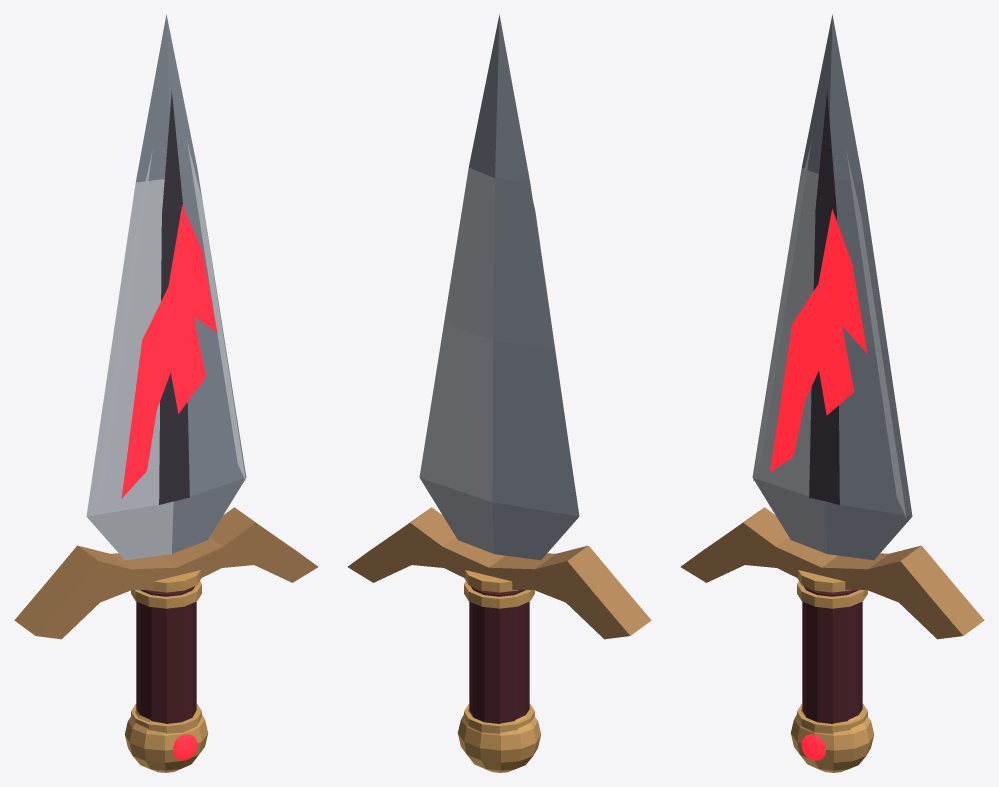
File: assassin-flame-dagger.glb
3 renders of one model, left to right at view 1: azimuth 30°, elevation 25°; view 2: azimuth 150°, elevation 25°; view 3: azimuth 330°, elevation 25°, orthographic.
Parts seen in each view (by area): view 1: Flame Dagger • Curved Moonsteel Blade, Flame Dagger • Swept Bronze Guard, Flame Dagger • Ember Inlay, Flame Dagger • Leather Grip, Flame Dagger • Obsidian Fuller, Flame Dagger • Pommel, Flame Dagger • Edge Glint L, Flame Dagger • Edge Glint R, Flame Dagger • Grip Ferrule.001, Flame Dagger • Grip Ferrule, Flame Dagger • Grip Ferrule.002; view 2: Flame Dagger • Curved Moonsteel Blade, Flame Dagger • Swept Bronze Guard, Flame Dagger • Leather Grip, Flame Dagger • Pommel, Flame Dagger • Grip Ferrule.001, Flame Dagger • Grip Ferrule, Flame Dagger • Grip Ferrule.002; view 3: Flame Dagger • Curved Moonsteel Blade, Flame Dagger • Swept Bronze Guard, Flame Dagger • Ember Inlay, Flame Dagger • Leather Grip, Flame Dagger • Obsidian Fuller, Flame Dagger • Pommel, Flame Dagger • Edge Glint R, Flame Dagger • Edge Glint L, Flame Dagger • Grip Ferrule.001, Flame Dagger • Grip Ferrule, Flame Dagger • Grip Ferrule.002.
Part boxes in pixels (bbox=[...]): Flame Dagger • Curved Moonsteel Blade: bbox=[86, 14, 246, 560]; Flame Dagger • Swept Bronze Guard: bbox=[14, 507, 318, 639]; Flame Dagger • Ember Inlay: bbox=[121, 205, 217, 498]; Flame Dagger • Leather Grip: bbox=[136, 586, 196, 723]; Flame Dagger • Obsidian Fuller: bbox=[159, 90, 189, 504]; Flame Dagger • Pommel: bbox=[124, 709, 208, 772]; Flame Dagger • Edge Glint L: bbox=[92, 149, 152, 518]; Flame Dagger • Edge Glint R: bbox=[187, 140, 245, 480]; Flame Dagger • Grip Ferrule.001: bbox=[131, 581, 201, 608]; Flame Dagger • Grip Ferrule: bbox=[131, 704, 201, 733]; Flame Dagger • Grip Ferrule.002: bbox=[148, 570, 201, 592]; Flame Dagger • Curved Moonsteel Blade: bbox=[419, 14, 579, 560]; Flame Dagger • Swept Bronze Guard: bbox=[347, 507, 651, 639]; Flame Dagger • Leather Grip: bbox=[469, 586, 529, 723]; Flame Dagger • Pommel: bbox=[457, 709, 541, 772]; Flame Dagger • Grip Ferrule.001: bbox=[464, 581, 534, 608]; Flame Dagger • Grip Ferrule: bbox=[464, 704, 534, 733]; Flame Dagger • Grip Ferrule.002: bbox=[464, 570, 517, 592]; Flame Dagger • Curved Moonsteel Blade: bbox=[752, 14, 912, 560]; Flame Dagger • Swept Bronze Guard: bbox=[680, 507, 984, 639]; Flame Dagger • Ember Inlay: bbox=[770, 209, 867, 472]; Flame Dagger • Leather Grip: bbox=[802, 586, 862, 723]; Flame Dagger • Obsidian Fuller: bbox=[809, 90, 839, 504]; Flame Dagger • Pommel: bbox=[790, 709, 874, 772]; Flame Dagger • Edge Glint R: bbox=[846, 149, 906, 518]; Flame Dagger • Edge Glint L: bbox=[753, 140, 811, 480]; Flame Dagger • Grip Ferrule.001: bbox=[797, 581, 867, 608]; Flame Dagger • Grip Ferrule: bbox=[797, 704, 867, 733]; Flame Dagger • Grip Ferrule.002: bbox=[797, 570, 850, 592].
Bounding box in the file's own units: 0.184 × 0.469 × 0.046.
